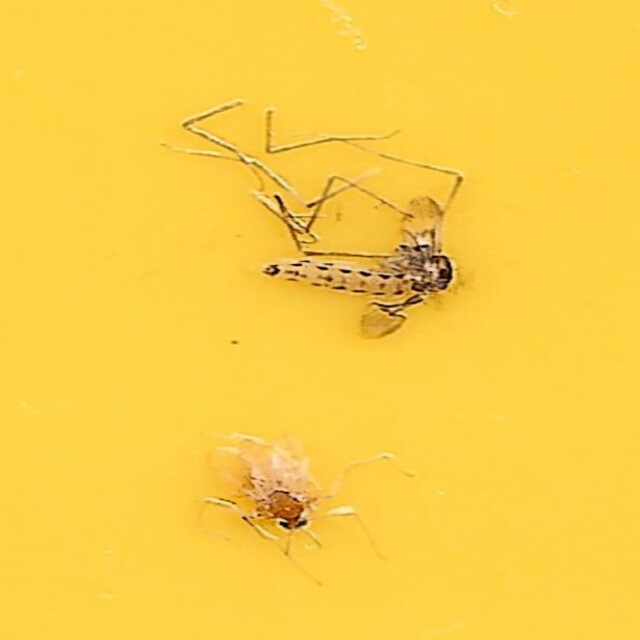Nematocera: (171, 104, 469, 341), (208, 433, 329, 536)
